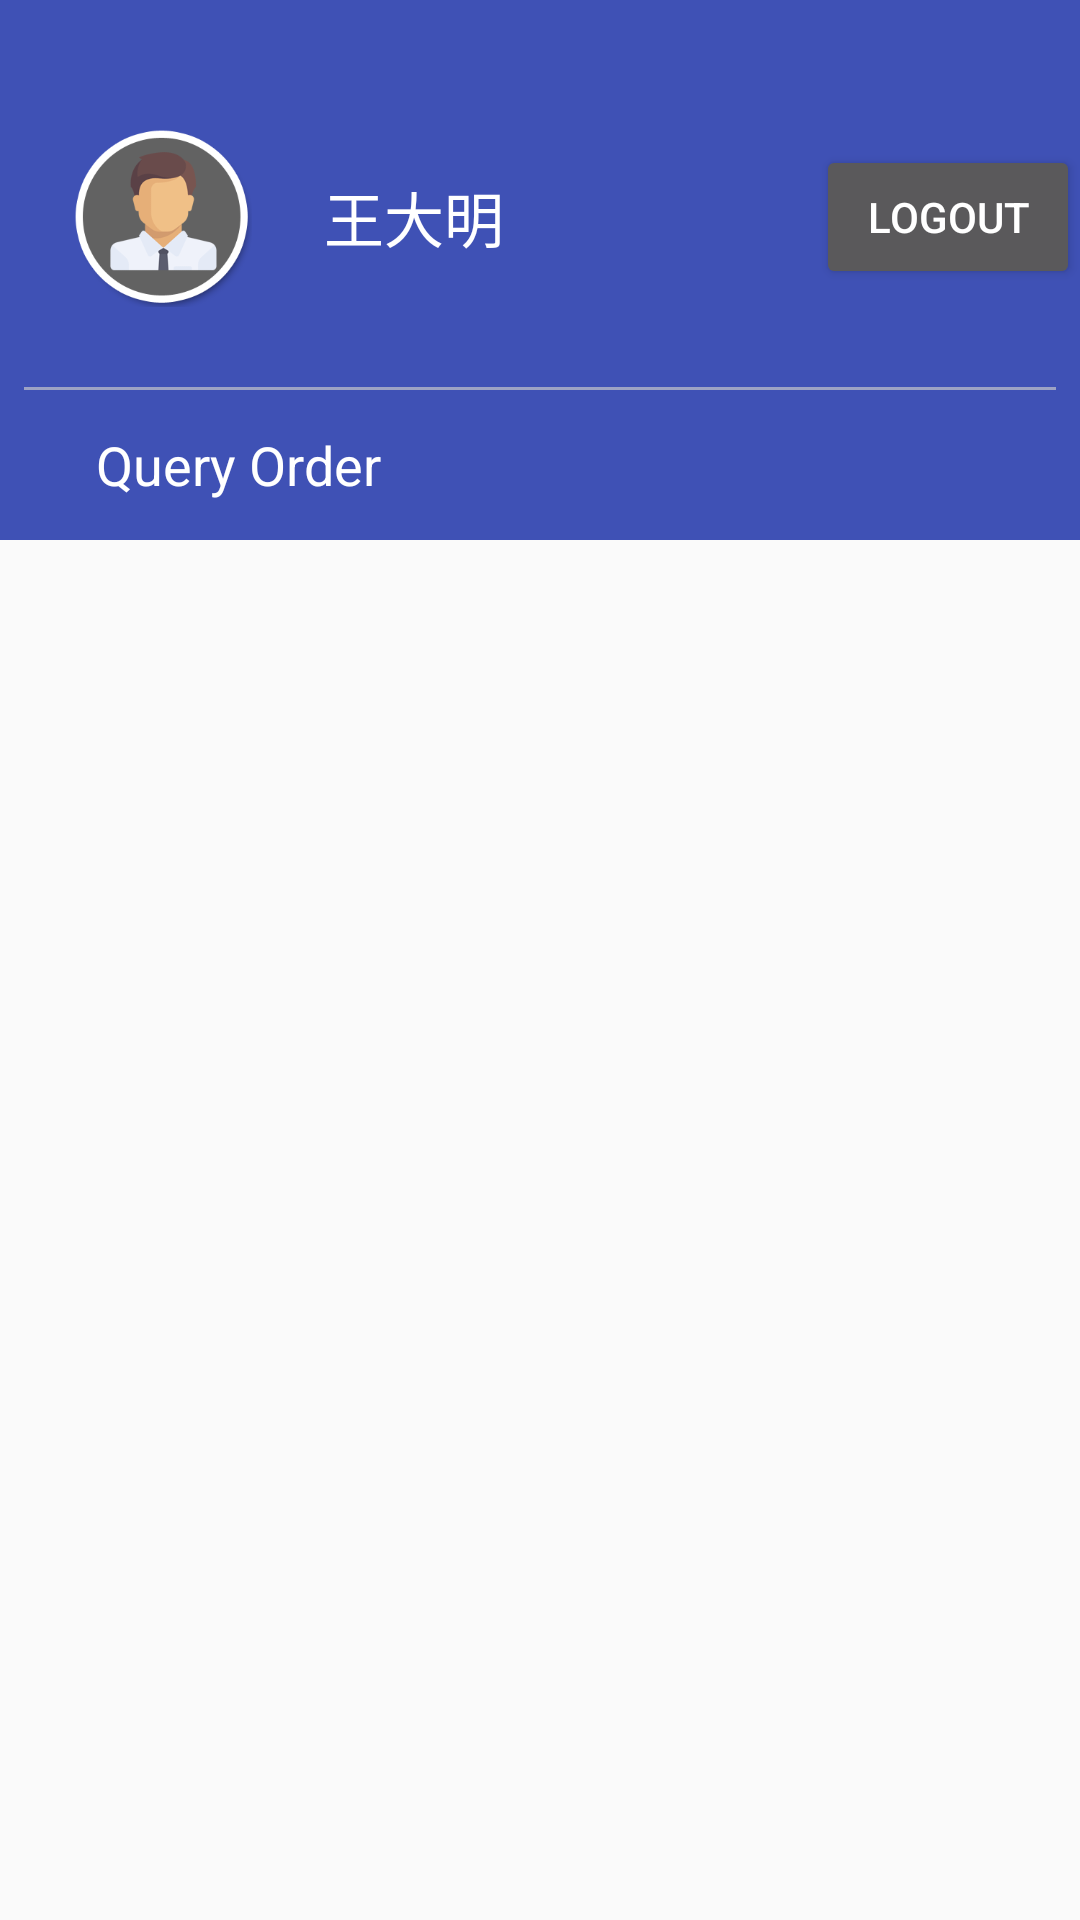

Where icons sit on this 1080px×1920px app screen, as (x1, y1, x2, y2):
faceimage: (75, 130, 249, 306)
